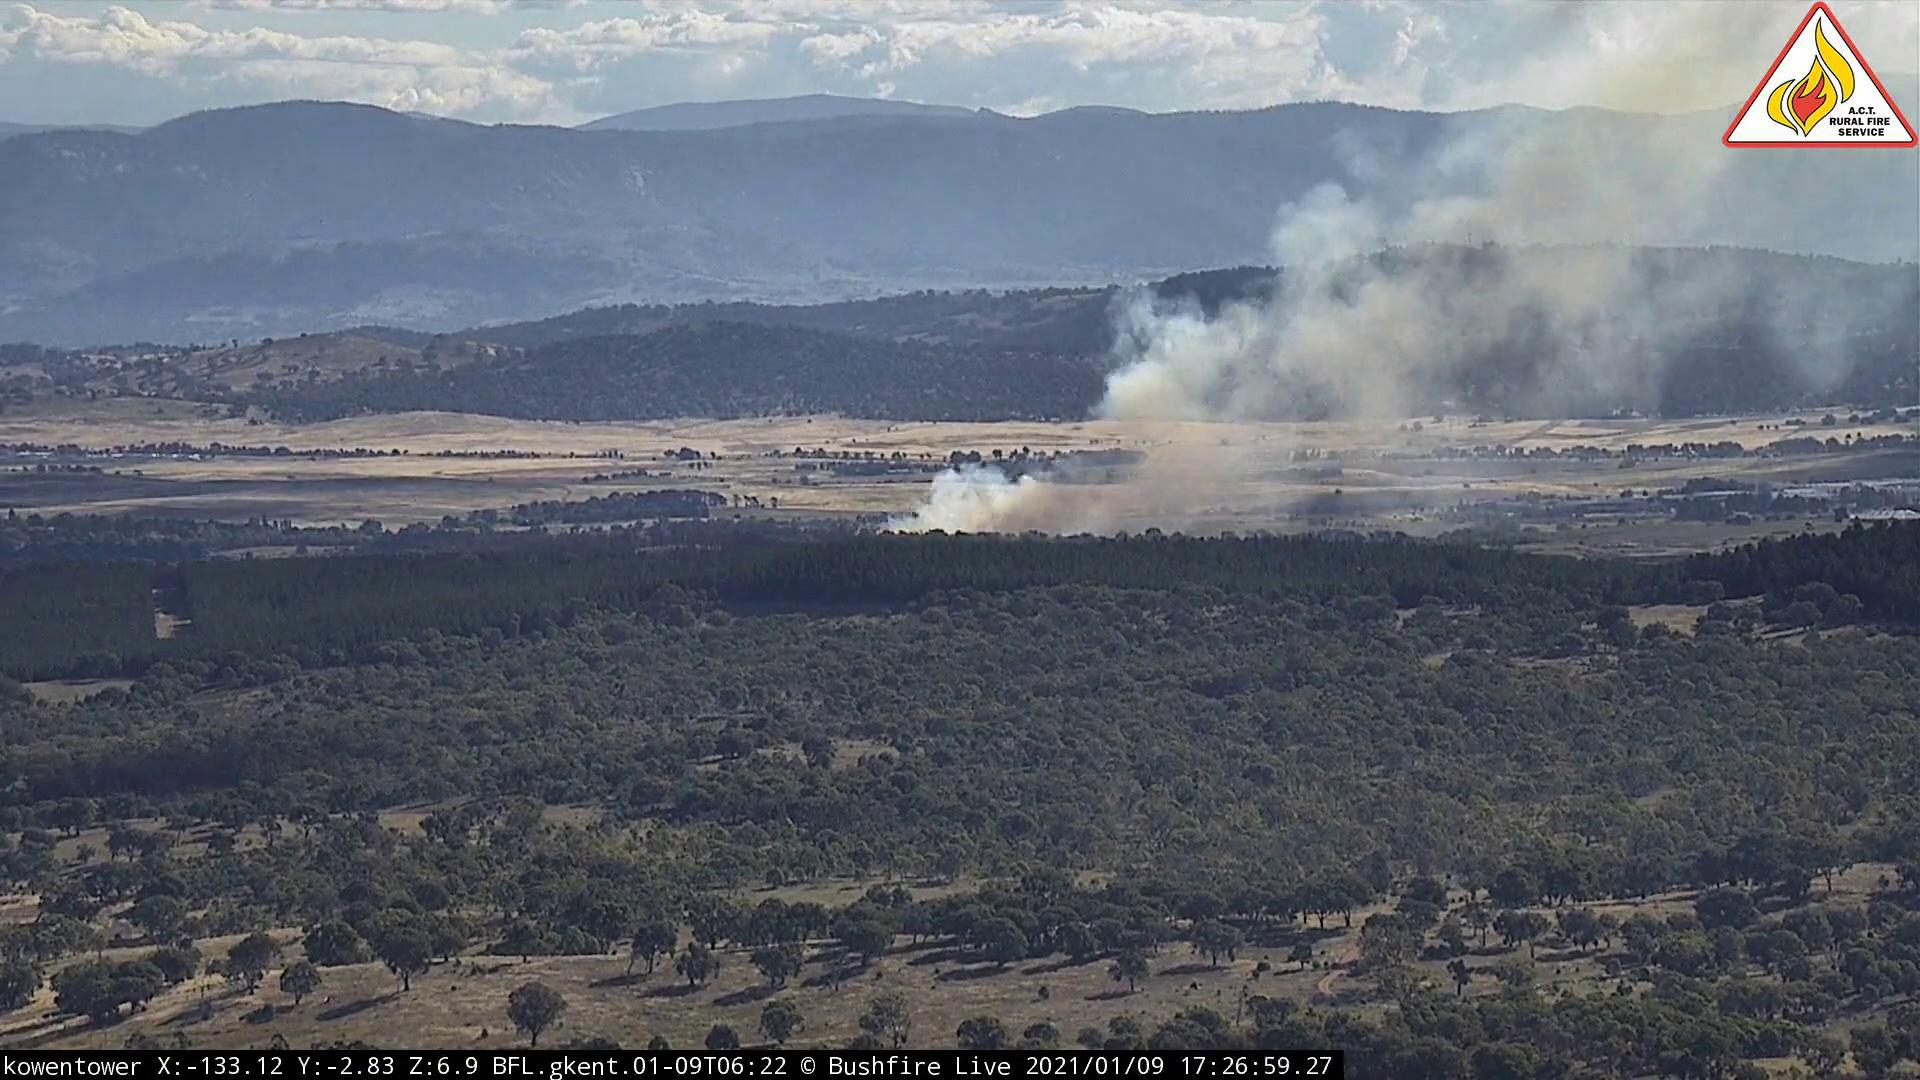Smoke: (862, 160, 1902, 550)
